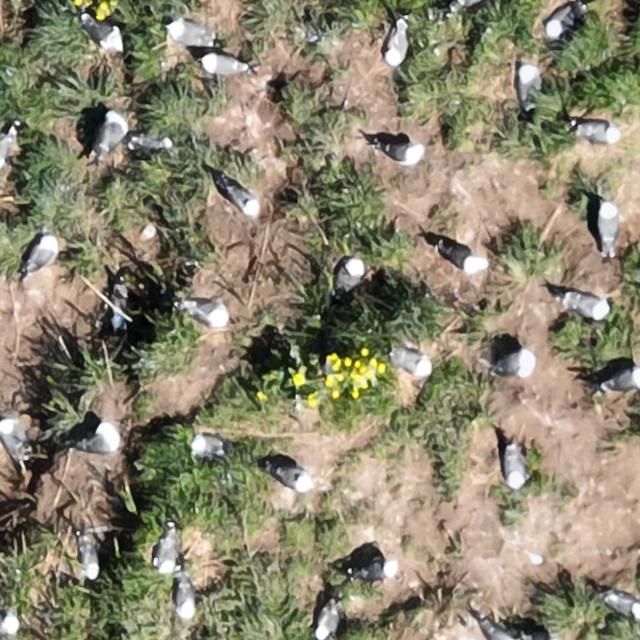umineko: (164, 19, 219, 50), (99, 112, 128, 163), (90, 17, 124, 53), (275, 466, 315, 495), (28, 235, 58, 270), (440, 246, 480, 272), (336, 257, 363, 294), (568, 295, 610, 318), (599, 204, 620, 250), (496, 351, 534, 376), (81, 428, 117, 454), (225, 185, 257, 214), (160, 532, 180, 578), (394, 352, 431, 376), (504, 447, 526, 486), (382, 144, 424, 164), (190, 303, 228, 325), (604, 367, 640, 390), (545, 5, 572, 35), (579, 122, 619, 142), (203, 54, 242, 74), (2, 420, 28, 450), (388, 26, 408, 62), (606, 592, 638, 614), (192, 435, 224, 457), (176, 578, 194, 615), (516, 67, 534, 104), (357, 562, 392, 581), (315, 608, 337, 638), (82, 543, 100, 578), (483, 623, 509, 640), (0, 130, 12, 165), (2, 612, 20, 635)
